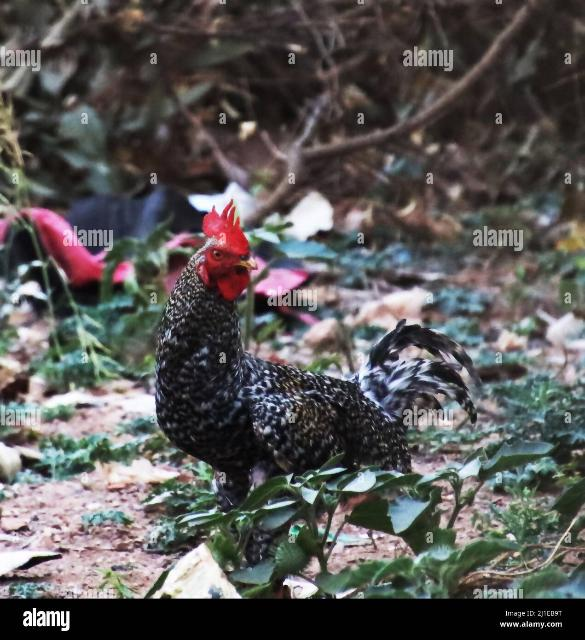Chicken: (152, 200, 486, 514)
